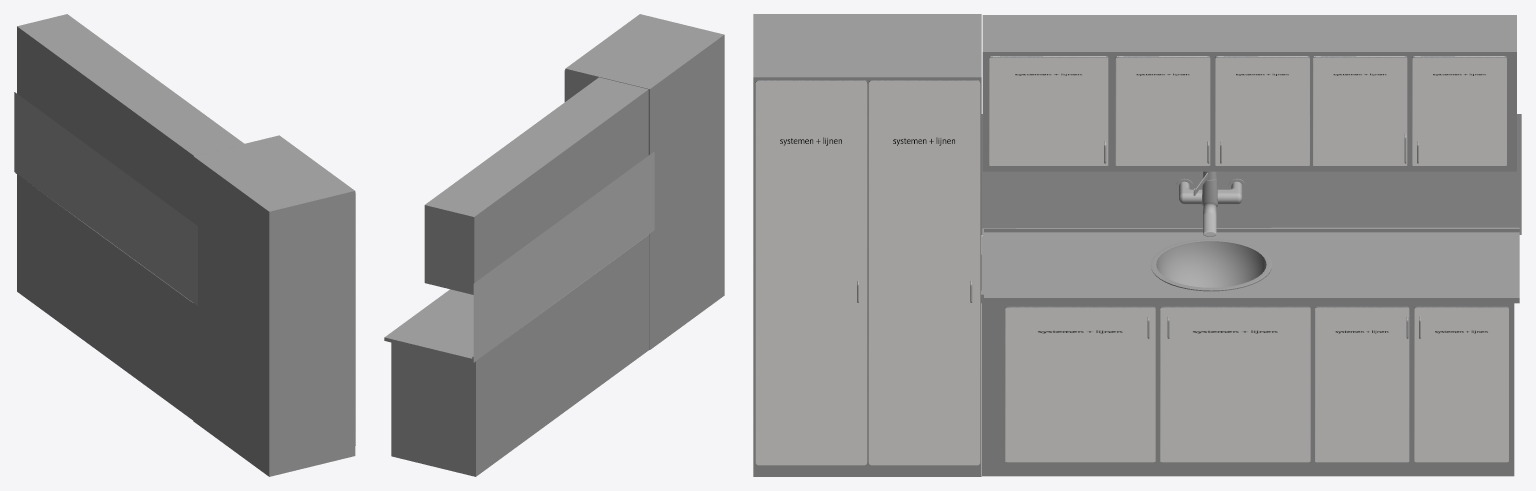
File: isolation_sink 2.fbx
3 views of the same model, side by side, from view 1: azimuth 30°, elevation 25°; view 2: azimuth 150°, elevation 25°; view 3: azimuth 270°, elevation 25° (orthographic). The views are drawn at different scales.
Parts seen in each view (by area): view 1: tall_cabinet, pCube24, pCube19, Stankskydd; view 2: pCube24, tall_cabinet, pCube19, Stankskydd, tabletop; view 3: right_door3 (×2), tabletop, pCube19, Stankskydd, right_door4, right_door5, tall_cabinet, pCube24, right_door6, right_door7, right_door20, right_door19 (+6 smaller).
Part boxes in pixels (bbox=[...]): tall_cabinet: bbox=[193, 135, 355, 476]; pCube24: bbox=[17, 174, 193, 420]; pCube19: bbox=[17, 14, 244, 222]; Stankskydd: bbox=[14, 92, 197, 305]; pCube24: bbox=[391, 234, 649, 476]; tall_cabinet: bbox=[565, 14, 724, 349]; pCube19: bbox=[424, 77, 648, 294]; Stankskydd: bbox=[473, 151, 654, 362]; tabletop: bbox=[384, 289, 525, 362]; right_door3 (×2): bbox=[755, 80, 980, 465]; tabletop: bbox=[981, 227, 1519, 303]; pCube19: bbox=[982, 15, 1516, 171]; Stankskydd: bbox=[981, 114, 1521, 234]; right_door4: bbox=[1005, 306, 1155, 462]; right_door5: bbox=[1160, 306, 1310, 462]; tall_cabinet: bbox=[753, 14, 981, 476]; pCube24: bbox=[982, 236, 1514, 476]; right_door6: bbox=[1315, 306, 1409, 462]; right_door7: bbox=[1414, 306, 1508, 462]; right_door20: bbox=[989, 56, 1108, 165]; right_door19: bbox=[1115, 56, 1210, 165].
Size of the model in its own units: 0.8454 by 2.33 by 4.06.
